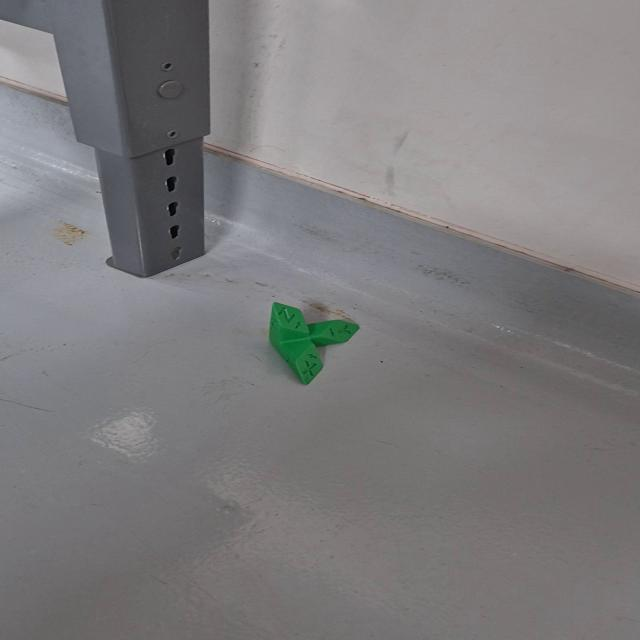objects: (260, 300, 364, 388)
